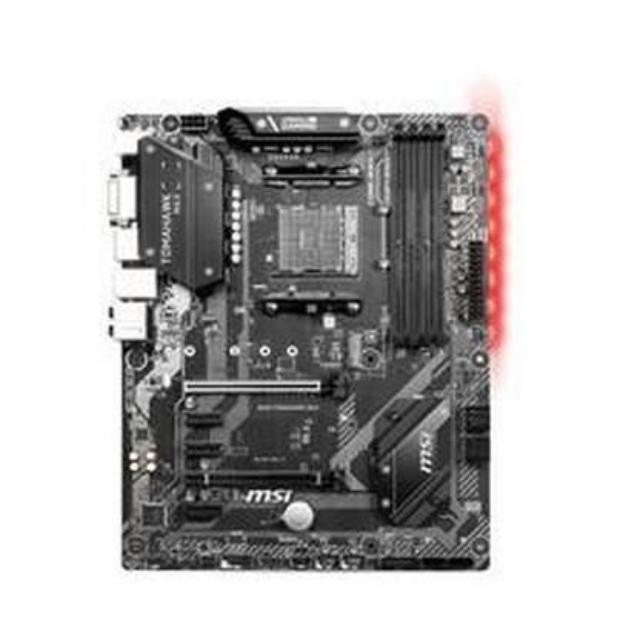Mainboard: (92, 92, 506, 590)
